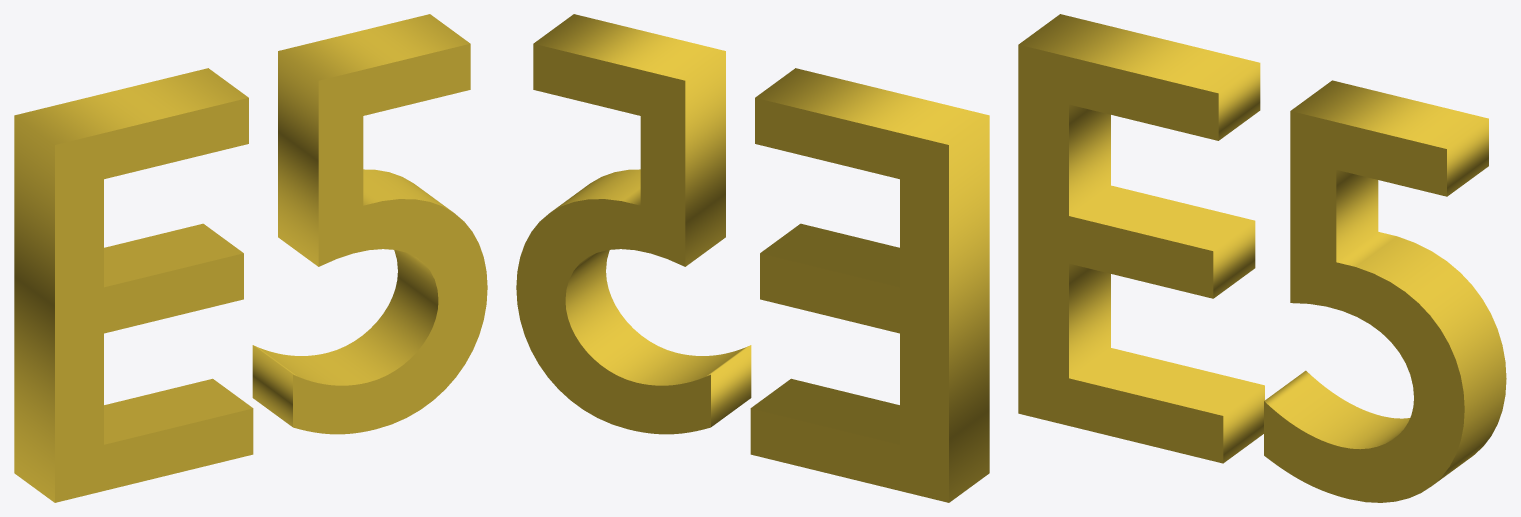
The picture shows the model from 3 angles, left to right: view 1: azimuth 30°, elevation 25°; view 2: azimuth 150°, elevation 25°; view 3: azimuth 330°, elevation 25°; orthographic projection. The views are drawn at different scales.
Parts seen in each view (by area): view 1: 텍스트; view 2: 텍스트; view 3: 텍스트.
Part boxes in pixels (x1,y1,x2,y2): 텍스트: (14, 14, 487, 502); 텍스트: (516, 14, 989, 502); 텍스트: (1018, 14, 1506, 502).
Size of the model in its own units: 86.3 by 69.1 by 14.
